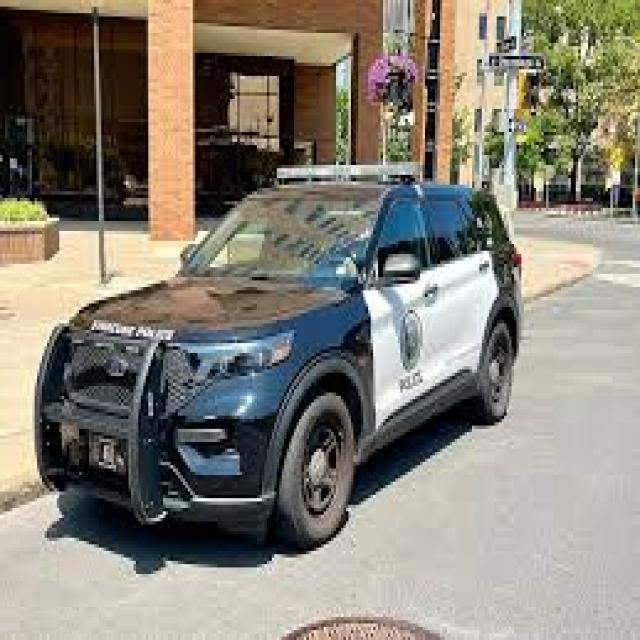cop: (33, 164, 524, 546)
